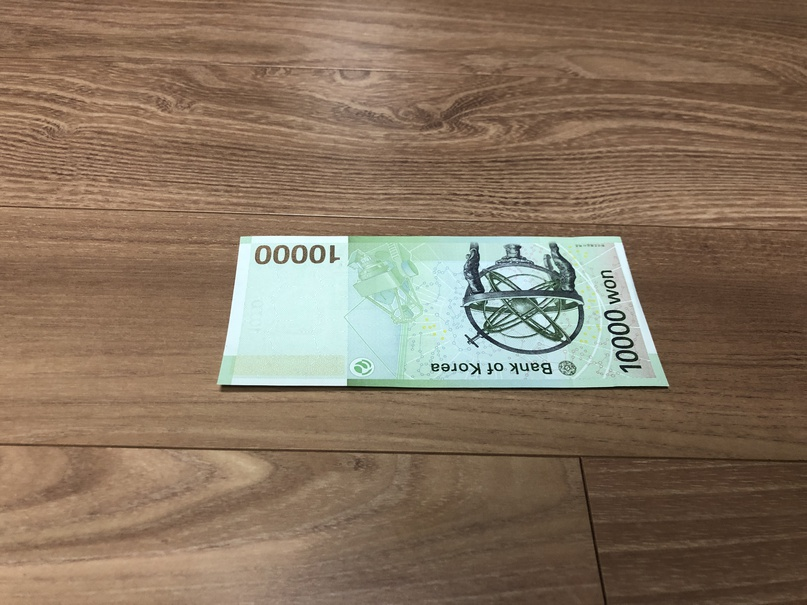10000won: (218, 235, 672, 391)
